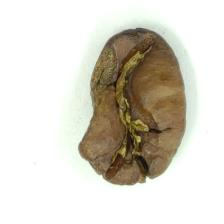NG: (99, 43, 166, 180)
